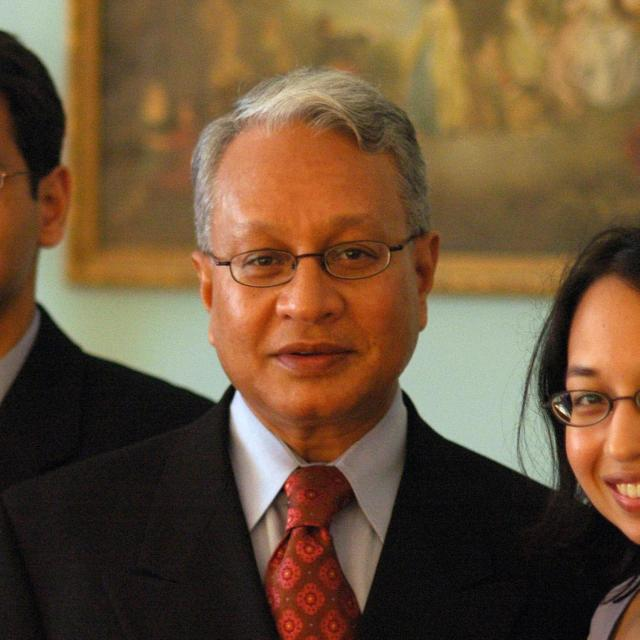no-glass: (230, 245, 379, 288)
